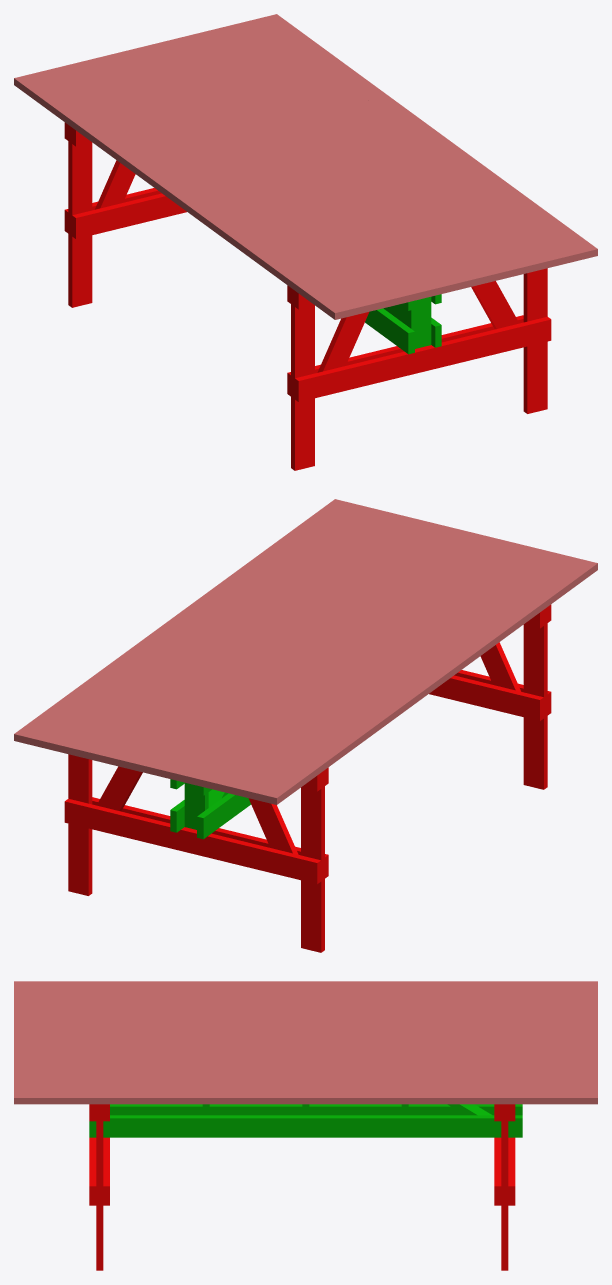
File: result.glb
3 views of the same model, one above another, from view 1: azimuth 30°, elevation 25°; view 2: azimuth 150°, elevation 25°; view 3: azimuth 270°, elevation 25° (orthographic). The views are drawn at different scales.
Parts seen in each view (by area): view 1: 6df91e55-2730-4774-abb3-7702fd7957b9__Box, 16f6862e-a076-4a32-bb8a-c8a180f73eec__undefined, c8a000f6-334d-4718-b066-88ebc3779e98__undefined, eddcb84a-8727-4295-a9b4-05c949a153e4__undefined, 728d5f48-7e04-49ae-a5f4-23039910df63__undefined, ac5cd7d6-f1a3-47a8-a16b-ebcbd67f46ee__undefined, b68d8891-9431-4df3-abe7-84f56449a484__undefined, e75f65be-56da-4ea2-9fd1-389ebf3bde90__undefined, 5bdf1453-4118-44d3-9f43-4cf58b5031f5__undefined, c553c038-9824-4661-9129-2573013300b4__undefined, e744f59d-7188-465a-aab1-8575bd83a358__undefined, fab87d0b-dc84-4406-a54d-0512c360d0b6__undefined (+12 smaller); view 2: 6df91e55-2730-4774-abb3-7702fd7957b9__Box, 16f6862e-a076-4a32-bb8a-c8a180f73eec__undefined, c8a000f6-334d-4718-b066-88ebc3779e98__undefined, eddcb84a-8727-4295-a9b4-05c949a153e4__undefined, 728d5f48-7e04-49ae-a5f4-23039910df63__undefined, ac5cd7d6-f1a3-47a8-a16b-ebcbd67f46ee__undefined, b68d8891-9431-4df3-abe7-84f56449a484__undefined, 5bdf1453-4118-44d3-9f43-4cf58b5031f5__undefined, c553c038-9824-4661-9129-2573013300b4__undefined, e75f65be-56da-4ea2-9fd1-389ebf3bde90__undefined, e744f59d-7188-465a-aab1-8575bd83a358__undefined, fab87d0b-dc84-4406-a54d-0512c360d0b6__undefined (+12 smaller); view 3: 355f29d2-bae8-4c73-bf82-cd718c5b8cc8__strutH, e75f65be-56da-4ea2-9fd1-389ebf3bde90__undefined, 6df91e55-2730-4774-abb3-7702fd7957b9__Box, 16f6862e-a076-4a32-bb8a-c8a180f73eec__undefined, e744f59d-7188-465a-aab1-8575bd83a358__undefined, b68d8891-9431-4df3-abe7-84f56449a484__undefined, fab87d0b-dc84-4406-a54d-0512c360d0b6__undefined, c8a000f6-334d-4718-b066-88ebc3779e98__undefined, 5bdf1453-4118-44d3-9f43-4cf58b5031f5__undefined, eddcb84a-8727-4295-a9b4-05c949a153e4__undefined, ab462f6e-f01c-4907-8117-10efca495ea6__undefined, 728d5f48-7e04-49ae-a5f4-23039910df63__undefined (+9 smaller).
Boxes of the visible parts, x1,y1,x2,y2 form: 6df91e55-2730-4774-abb3-7702fd7957b9__Box: (14,73,355,319); 16f6862e-a076-4a32-bb8a-c8a180f73eec__undefined: (34,68,375,314); c8a000f6-334d-4718-b066-88ebc3779e98__undefined: (115,48,456,295); eddcb84a-8727-4295-a9b4-05c949a153e4__undefined: (156,38,496,285); 728d5f48-7e04-49ae-a5f4-23039910df63__undefined: (196,29,537,275); ac5cd7d6-f1a3-47a8-a16b-ebcbd67f46ee__undefined: (237,19,577,265); b68d8891-9431-4df3-abe7-84f56449a484__undefined: (75,58,415,304); e75f65be-56da-4ea2-9fd1-389ebf3bde90__undefined: (257,14,597,260); 5bdf1453-4118-44d3-9f43-4cf58b5031f5__undefined: (135,43,476,290); c553c038-9824-4661-9129-2573013300b4__undefined: (216,24,557,270); e744f59d-7188-465a-aab1-8575bd83a358__undefined: (55,63,395,309); fab87d0b-dc84-4406-a54d-0512c360d0b6__undefined: (95,53,436,300); 6df91e55-2730-4774-abb3-7702fd7957b9__Box: (256,558,597,804); 16f6862e-a076-4a32-bb8a-c8a180f73eec__undefined: (236,553,577,799); c8a000f6-334d-4718-b066-88ebc3779e98__undefined: (155,533,496,780); eddcb84a-8727-4295-a9b4-05c949a153e4__undefined: (115,523,455,770); 728d5f48-7e04-49ae-a5f4-23039910df63__undefined: (74,514,415,760); ac5cd7d6-f1a3-47a8-a16b-ebcbd67f46ee__undefined: (34,504,374,750); b68d8891-9431-4df3-abe7-84f56449a484__undefined: (196,543,536,789); 5bdf1453-4118-44d3-9f43-4cf58b5031f5__undefined: (135,528,476,775); c553c038-9824-4661-9129-2573013300b4__undefined: (54,509,395,755); e75f65be-56da-4ea2-9fd1-389ebf3bde90__undefined: (14,499,354,745); e744f59d-7188-465a-aab1-8575bd83a358__undefined: (216,548,556,794); fab87d0b-dc84-4406-a54d-0512c360d0b6__undefined: (175,538,516,785); 355f29d2-bae8-4c73-bf82-cd718c5b8cc8__strutH: (89,1115,522,1137); e75f65be-56da-4ea2-9fd1-389ebf3bde90__undefined: (14,1089,597,1104); 6df91e55-2730-4774-abb3-7702fd7957b9__Box: (14,981,597,990); 16f6862e-a076-4a32-bb8a-c8a180f73eec__undefined: (14,990,597,999); e744f59d-7188-465a-aab1-8575bd83a358__undefined: (14,999,597,1008); b68d8891-9431-4df3-abe7-84f56449a484__undefined: (14,1008,597,1017); fab87d0b-dc84-4406-a54d-0512c360d0b6__undefined: (14,1017,597,1026); c8a000f6-334d-4718-b066-88ebc3779e98__undefined: (14,1026,597,1035); 5bdf1453-4118-44d3-9f43-4cf58b5031f5__undefined: (14,1035,597,1044); eddcb84a-8727-4295-a9b4-05c949a153e4__undefined: (14,1044,597,1053); ab462f6e-f01c-4907-8117-10efca495ea6__undefined: (14,1053,597,1062); 728d5f48-7e04-49ae-a5f4-23039910df63__undefined: (14,1062,597,1071).
Bounding box in the file's own units: 1040 × 726 × 2200.
